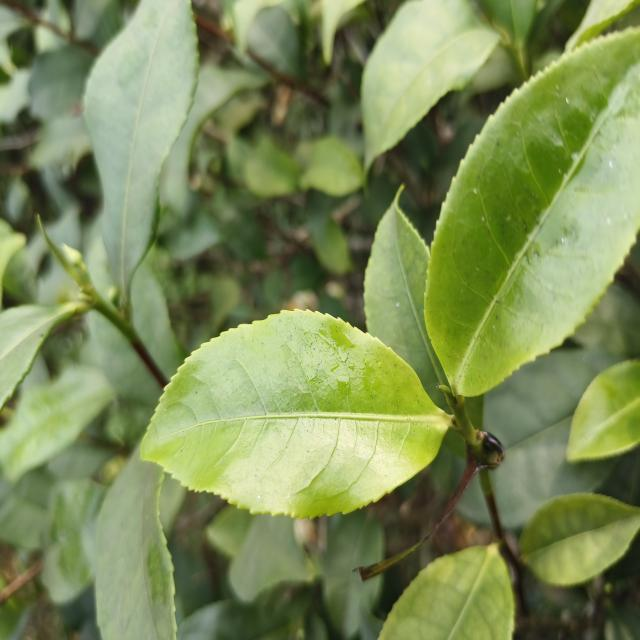Leaf: (425, 31, 640, 396), (141, 310, 451, 518), (84, 0, 198, 301), (483, 349, 618, 528), (361, 0, 500, 169), (95, 446, 177, 640), (160, 63, 266, 211), (364, 201, 439, 396), (0, 366, 114, 482), (379, 545, 514, 640), (520, 493, 640, 585), (0, 303, 79, 410), (42, 478, 106, 604), (323, 509, 385, 638), (566, 360, 640, 462), (230, 515, 315, 601), (177, 591, 310, 640), (28, 45, 93, 120), (0, 470, 55, 550), (300, 136, 363, 196), (307, 191, 352, 275), (249, 6, 302, 77), (243, 138, 300, 197), (165, 209, 220, 260)
